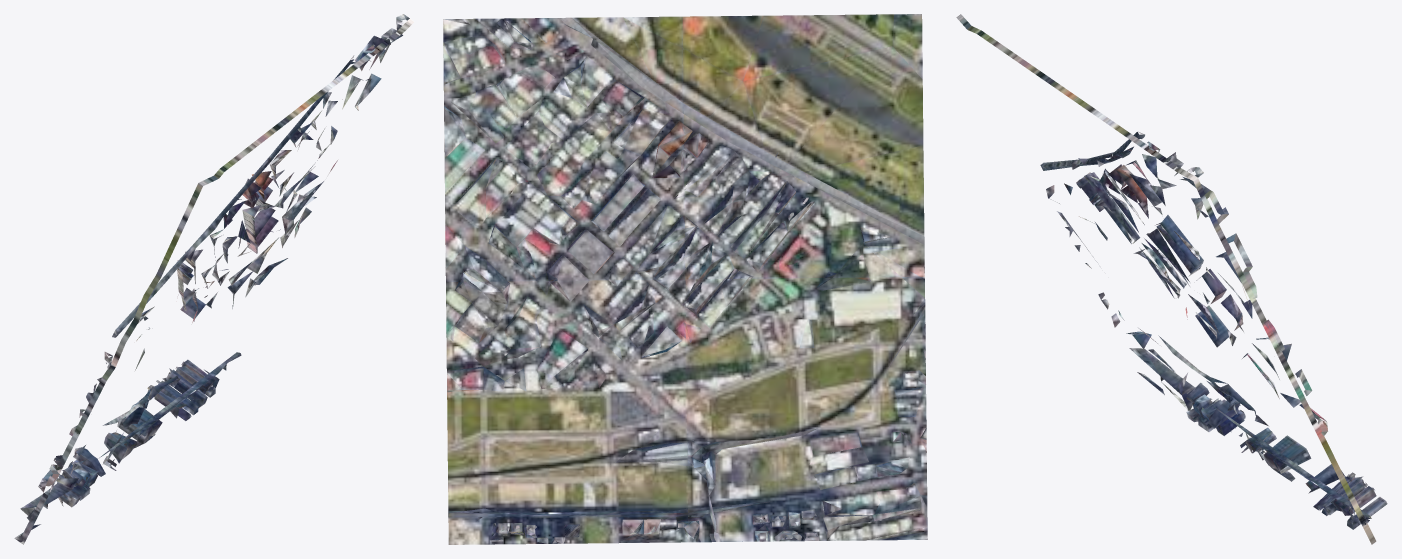
3 views of the same model, side by side, from view 1: azimuth 30°, elevation 25°; view 2: azimuth 150°, elevation 25°; view 3: azimuth 270°, elevation 25° (orthographic). The views are drawn at different scales.
Bounding box in the file's own units: 1227 × 1130 × 1054.
2 materials, 2 textured.
